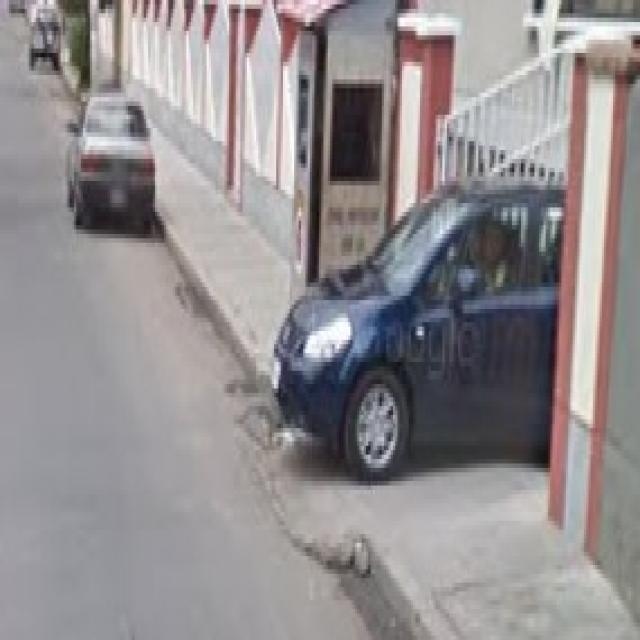cars: (274, 149, 571, 499), (62, 88, 158, 236)
